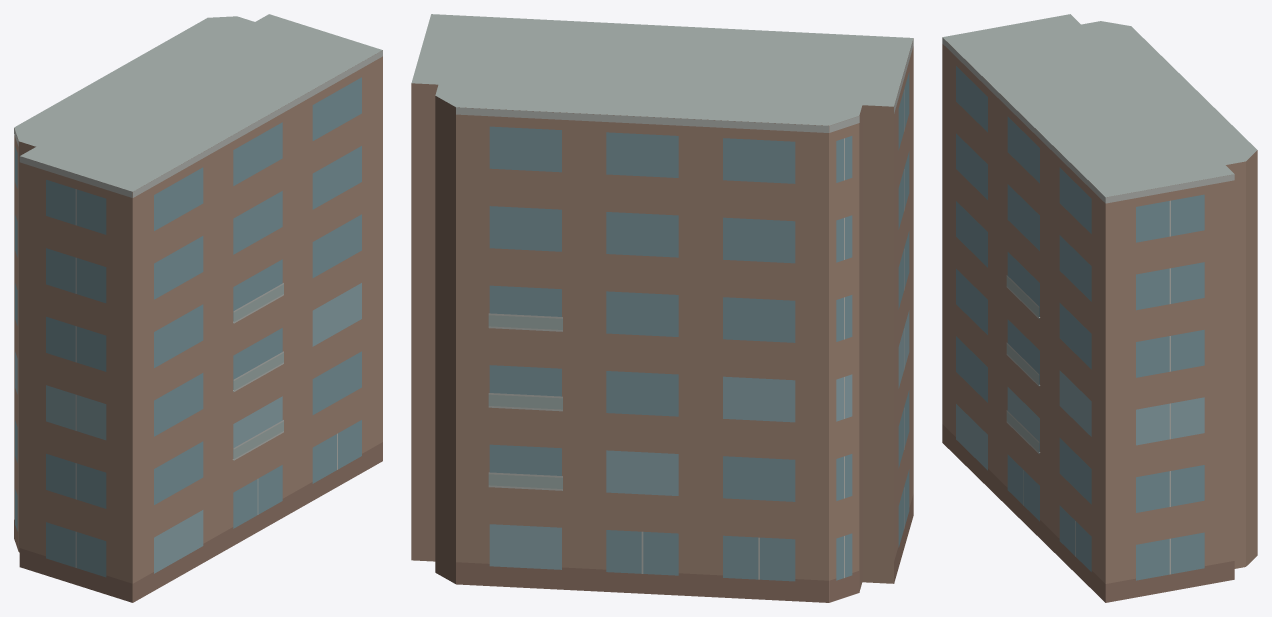
Rendered from survey-upis-32738346.glb.
The picture shows the model from 3 angles, left to right: view 1: azimuth 30°, elevation 25°; view 2: azimuth 150°, elevation 25°; view 3: azimuth 270°, elevation 25°; orthographic projection. The views are drawn at different scales.
Visible parts, largest first — view 1: survey-upis-32738346.tmp; view 2: survey-upis-32738346.tmp; view 3: survey-upis-32738346.tmp.
Part boxes in pixels (bbox=[...]): survey-upis-32738346.tmp: bbox=[14, 14, 382, 602]; survey-upis-32738346.tmp: bbox=[411, 14, 913, 602]; survey-upis-32738346.tmp: bbox=[942, 14, 1257, 602].
Size of the model in its own units: 15.43 by 15.9 by 11.21.
